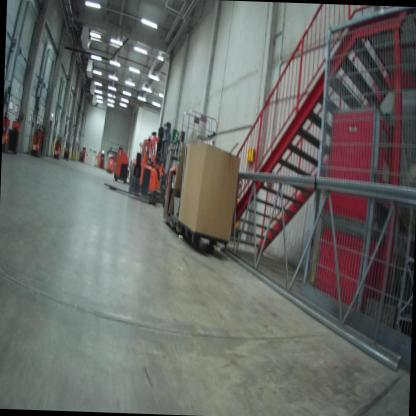forklift: (104, 119, 174, 203), (121, 127, 161, 198)
pallet_truck: (161, 145, 235, 258), (2, 110, 22, 154), (113, 142, 133, 184), (29, 121, 50, 158), (53, 134, 64, 159), (105, 151, 114, 174)
